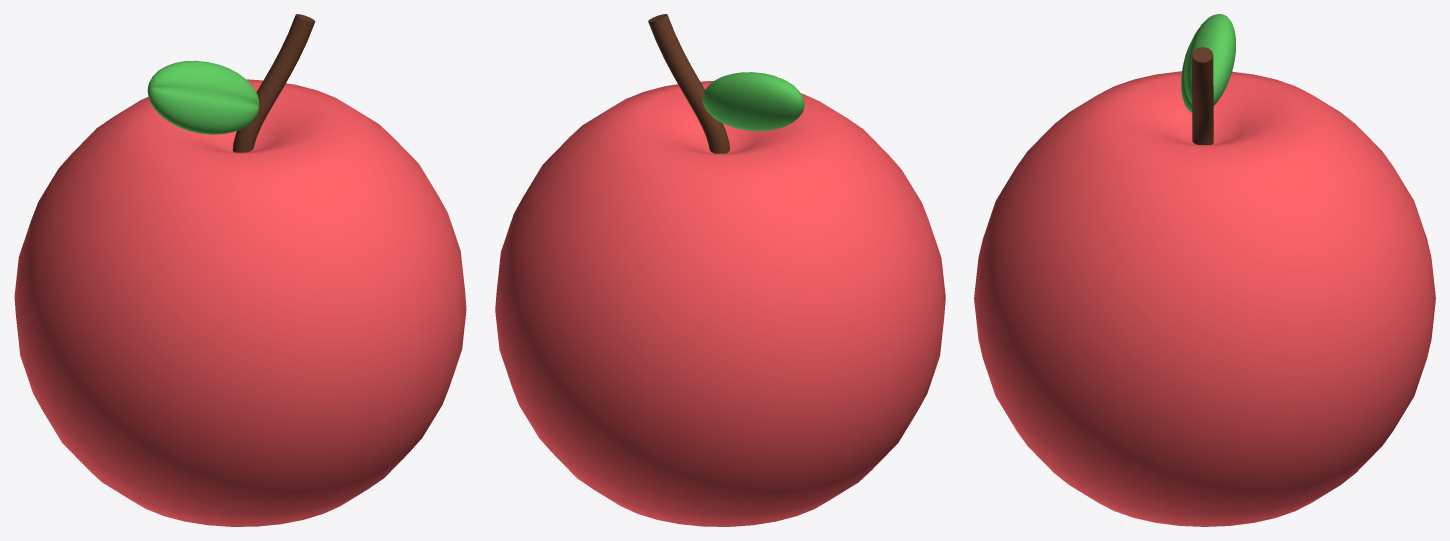
Rendered from apple.glb.
3 views of the same model, side by side, from view 1: azimuth 30°, elevation 25°; view 2: azimuth 150°, elevation 25°; view 3: azimuth 270°, elevation 25° (orthographic). The views are drawn at different scales.
Parts seen in each view (by area): view 1: 球, 球.001, ベジエカーブ; view 2: 球, 球.001, ベジエカーブ; view 3: 球, 球.001, ベジエカーブ.
Part boxes in pixels (box(x1,y1,x2,y2)): 球: box(14, 79, 466, 526); 球.001: box(147, 60, 259, 134); ベジエカーブ: box(232, 14, 315, 152); 球: box(495, 81, 945, 526); 球.001: box(702, 72, 804, 131); ベジエカーブ: box(648, 14, 729, 153); 球: box(974, 71, 1435, 526); 球.001: box(1181, 14, 1235, 112); ベジエカーブ: box(1192, 47, 1213, 144).
Bounding box in the file's own units: 1.14 × 1.27 × 1.14.
